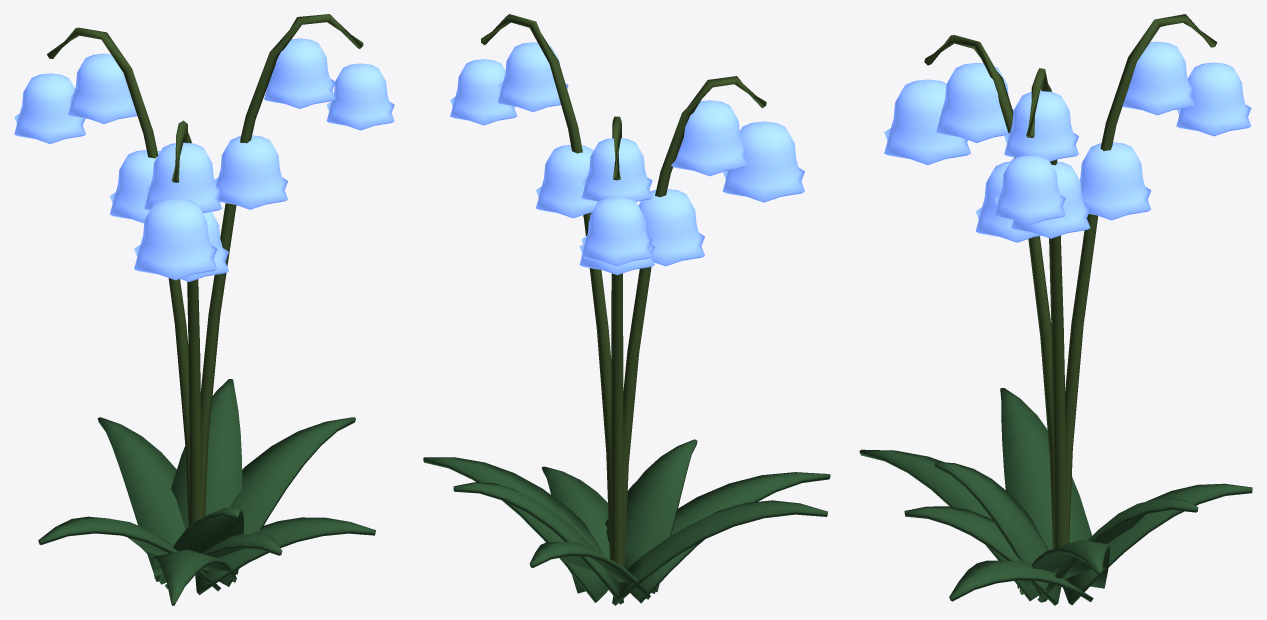
The model's file is flora_bell.glb.
3 renders of one model, left to right at view 1: azimuth 30°, elevation 25°; view 2: azimuth 150°, elevation 25°; view 3: azimuth 270°, elevation 25°, orthographic. The views are drawn at different scales.
Visible parts, largest first — view 1: petal_iceblue, leaf_deep, stem; view 2: petal_iceblue, leaf_deep, stem; view 3: petal_iceblue, leaf_deep, stem.
Part boxes in pixels (x1,y1,x2,y2): petal_iceblue: [14, 38, 394, 281]; leaf_deep: [38, 379, 375, 605]; stem: [47, 14, 363, 526]; petal_iceblue: [450, 42, 804, 275]; leaf_deep: [423, 439, 830, 605]; stem: [481, 14, 766, 567]; petal_iceblue: [884, 41, 1251, 242]; leaf_deep: [859, 388, 1252, 605]; stem: [924, 14, 1217, 548].
Bounding box in the file's own units: 0.7252 × 1.02 × 0.6412.
